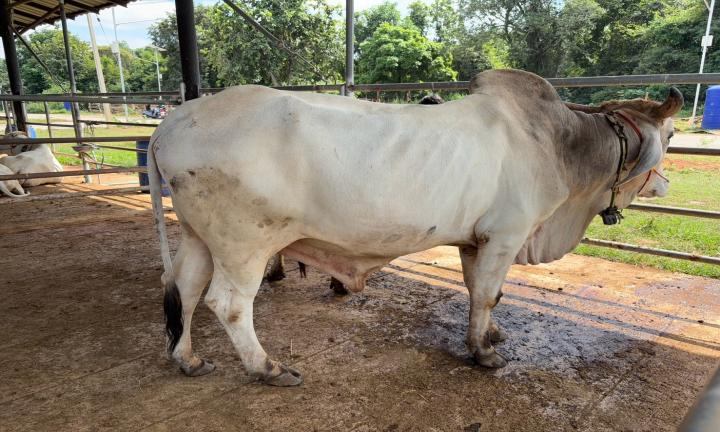Brahman: (148, 69, 682, 385)
